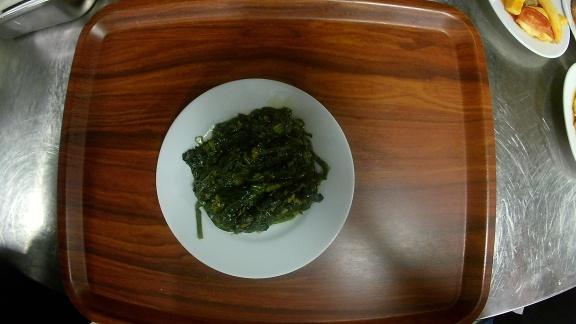ispanak: (155, 77, 356, 280)
